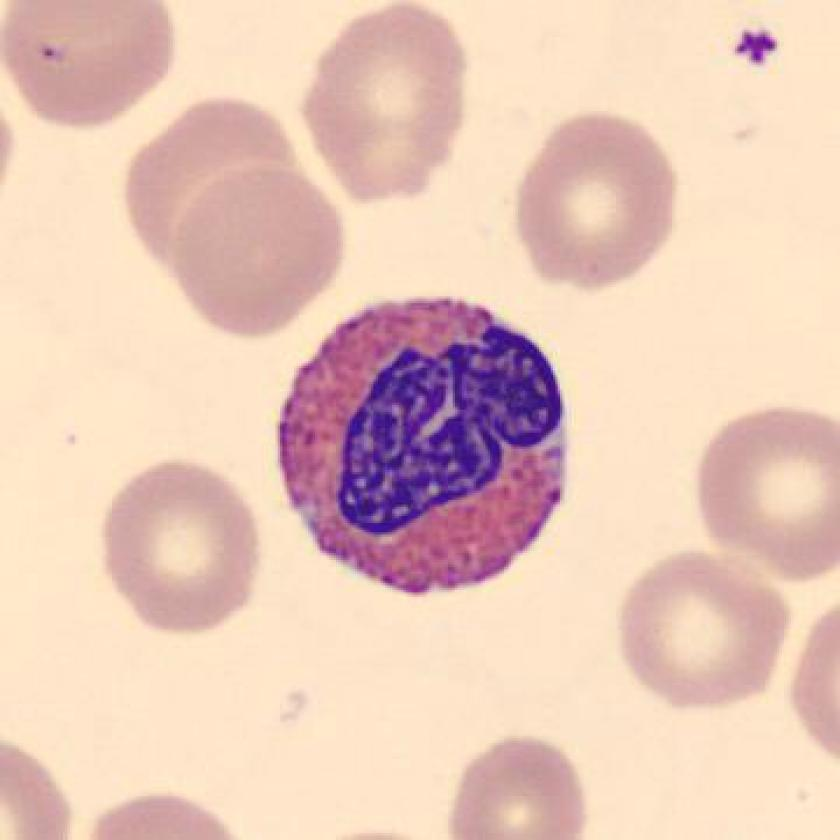eosinophil: (258, 281, 584, 617)
